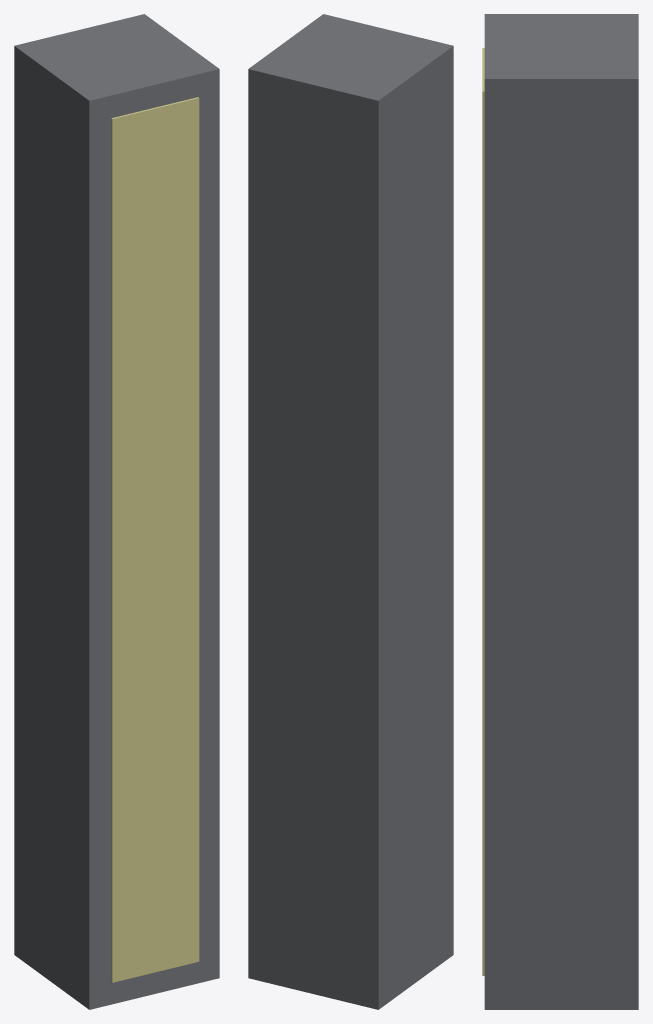
The model's file is building-d.glb.
3 views of the same model, side by side, from view 1: azimuth 30°, elevation 25°; view 2: azimuth 150°, elevation 25°; view 3: azimuth 270°, elevation 25° (orthographic). The views are drawn at different scales.
Size of the model in its own units: 1.2 by 8 by 1.22.
